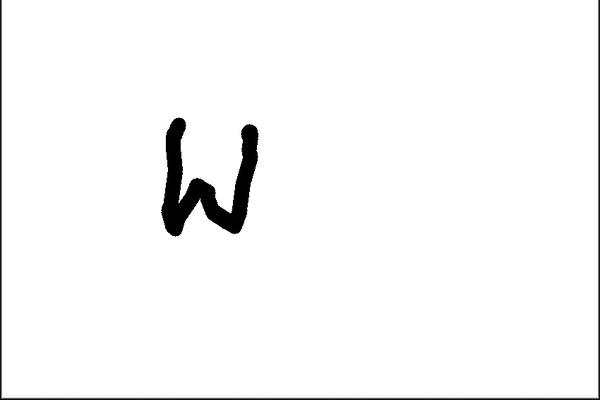w: (146, 104, 275, 244)
